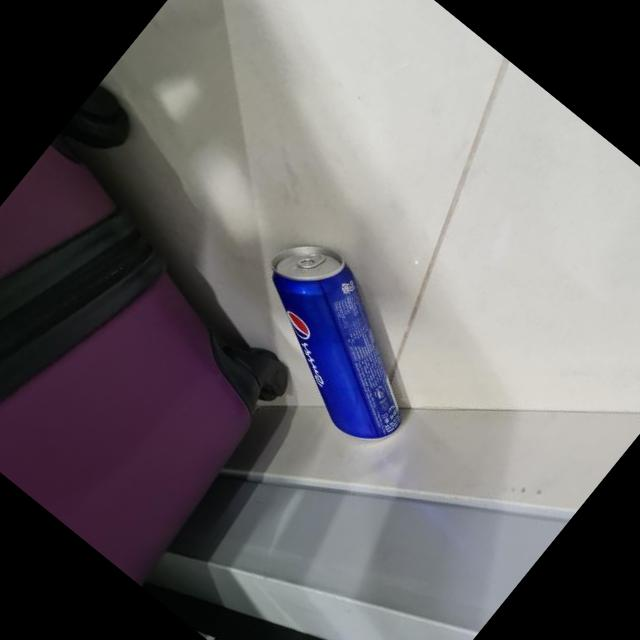Kaleng: (212, 223, 458, 460)
